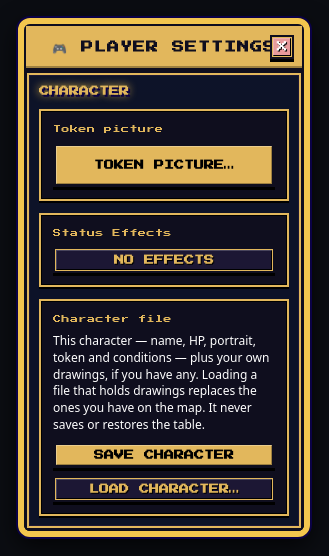
Test case: PlayerSettingsMenu — toggling a condition by its label › adds the condition on a single click of the text
Click the button "No Effects": x=164, y=260 [53,247,275,273]
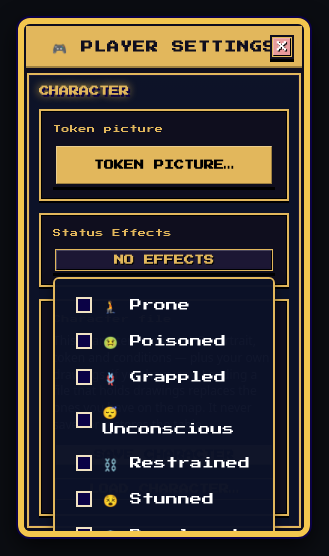
Click the text "🤢 Poisoned": x=164, y=341 [103,332,226,350]
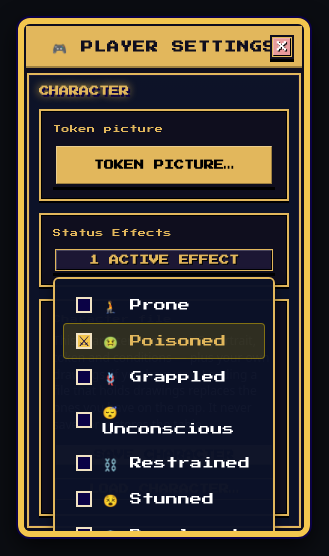
Expected: the checkbox labelled "🤢 Poisoned" is checked, [76,333,92,349]
